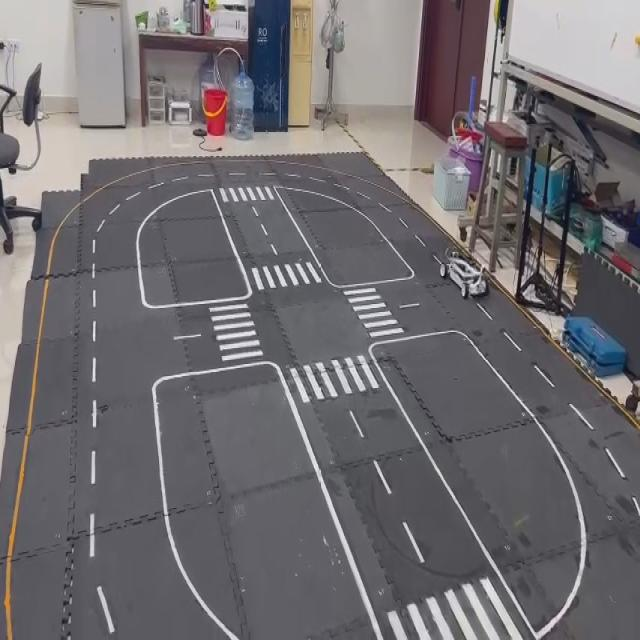SiCo-CAR: (434, 245, 489, 300)
